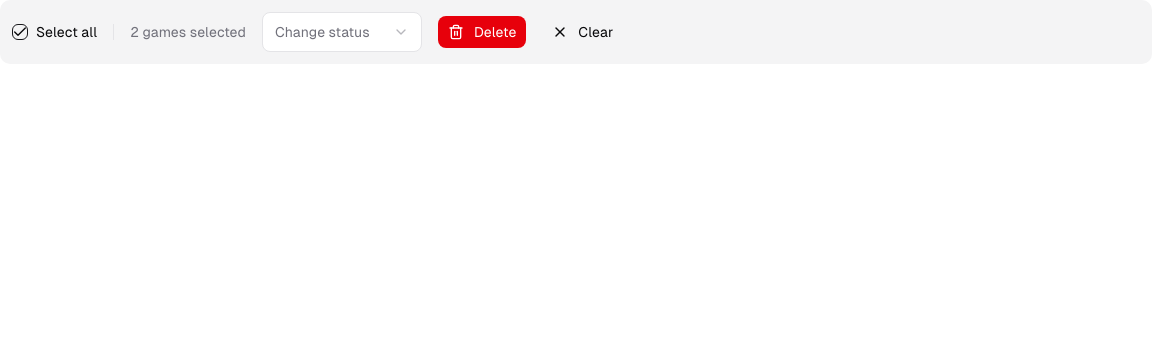
Test: BulkActions › status change › displays all PlayStatus options in dropdown
// Open the select dropdown
Step 1. Click the dropdown → x=342, y=32, box [262,12,422,52]
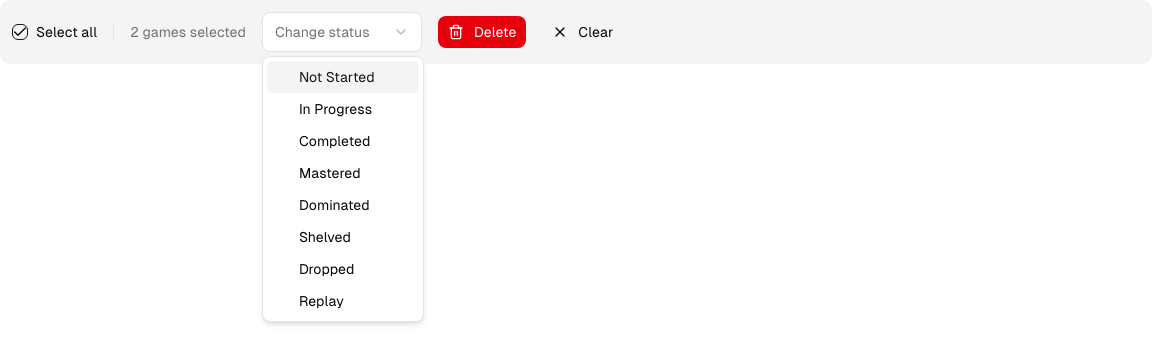
expect the option "Not Started" is shown: met, box [267,61,419,93]
expect the option "In Progress" is shown: met, box [299,101,372,117]
expect the option "Completed" is shown: met, box [299,133,370,149]
